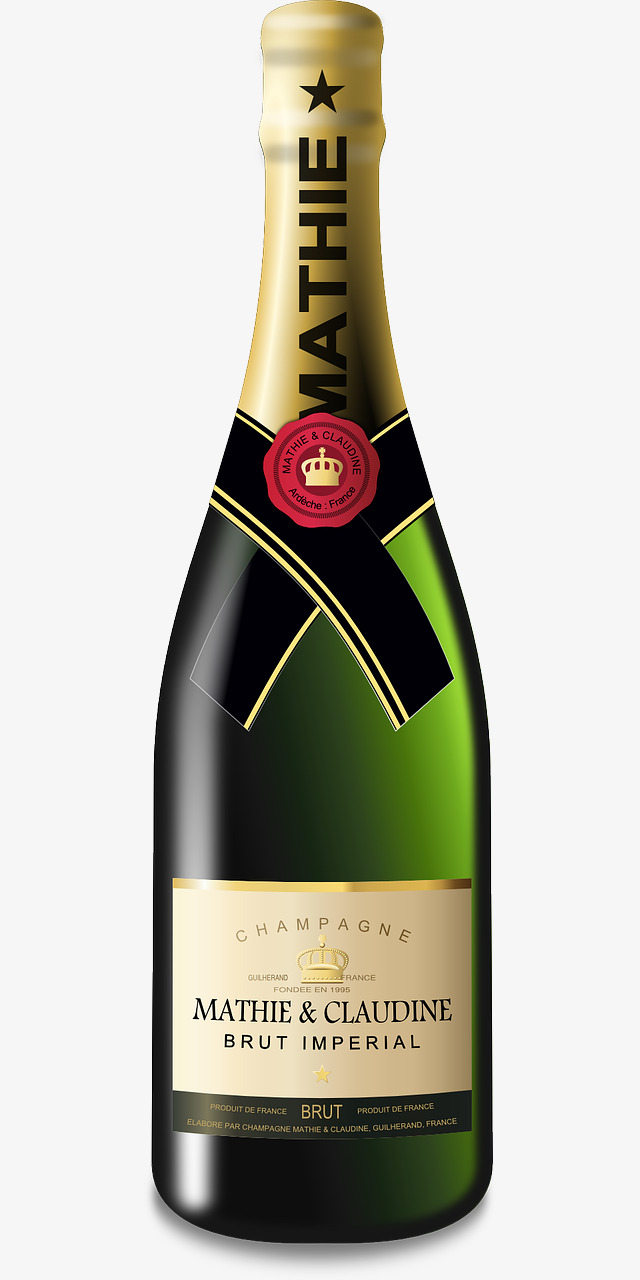bottle: (142, 1, 501, 1248)
